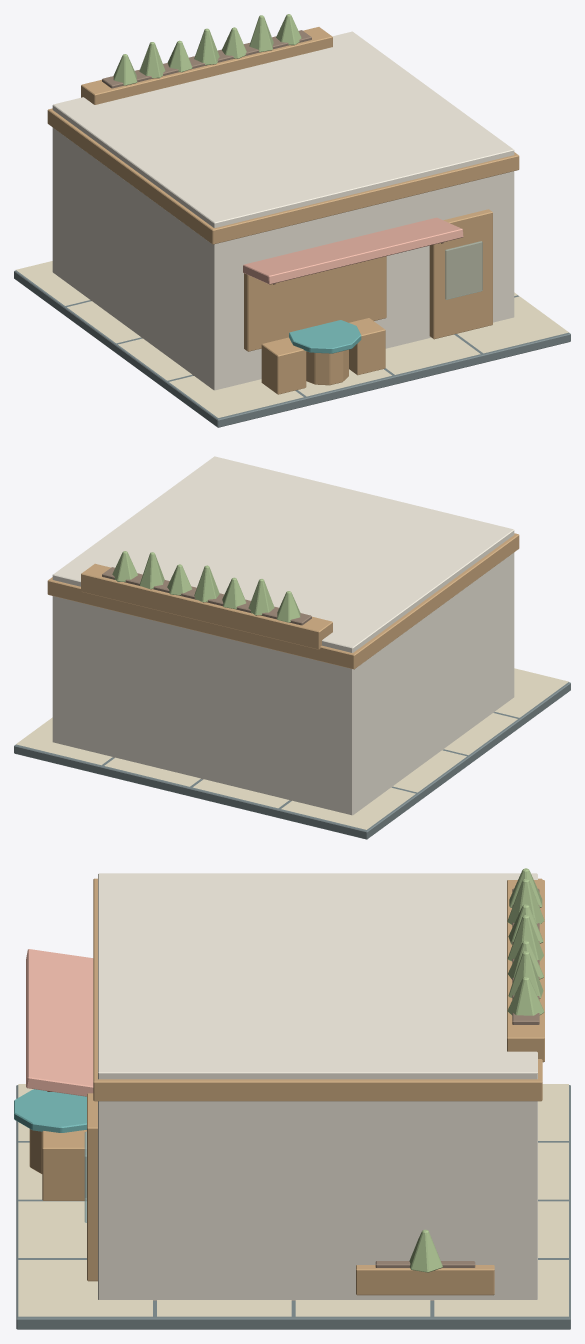
The model's file is b07-starter-shop-cafe.glb.
3 renders of one model, top to bottom at view 1: azimuth 30°, elevation 25°; view 2: azimuth 150°, elevation 25°; view 3: azimuth 270°, elevation 25°, orthographic. The views are drawn at different scales.
Visible parts, largest first — view 1: MM_STR_B07_STARTER_SHOP_CAFE_A_LOD0; view 2: MM_STR_B07_STARTER_SHOP_CAFE_A_LOD0; view 3: MM_STR_B07_STARTER_SHOP_CAFE_A_LOD0.
Boxes of the visible parts, <box> form: MM_STR_B07_STARTER_SHOP_CAFE_A_LOD0: <box>14,14,570,427</box>; MM_STR_B07_STARTER_SHOP_CAFE_A_LOD0: <box>14,456,570,839</box>; MM_STR_B07_STARTER_SHOP_CAFE_A_LOD0: <box>14,868,570,1329</box>.
Bounding box in the file's own units: 8 × 4.73 × 8.03.
